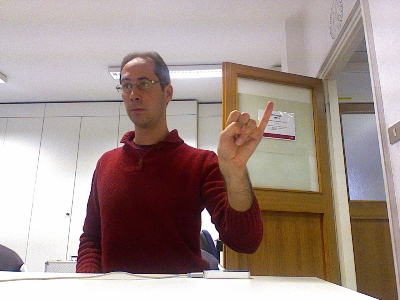小指: (215, 100, 273, 170)
